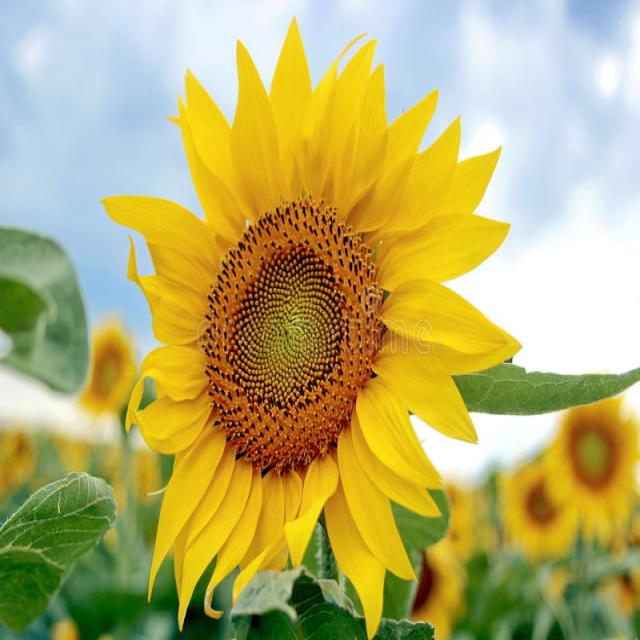sunflower: (122, 17, 526, 640), (543, 371, 640, 558)
